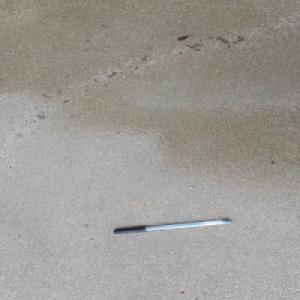Pen: (112, 218, 233, 234)
